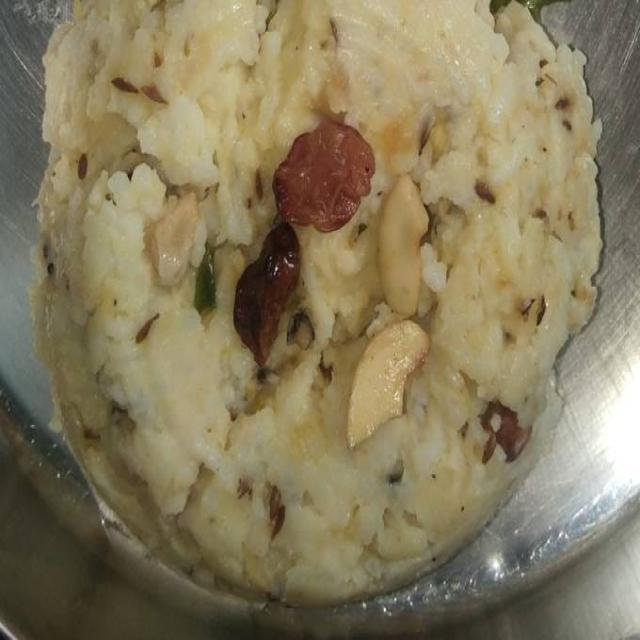khara pongal: (20, 0, 602, 616)
